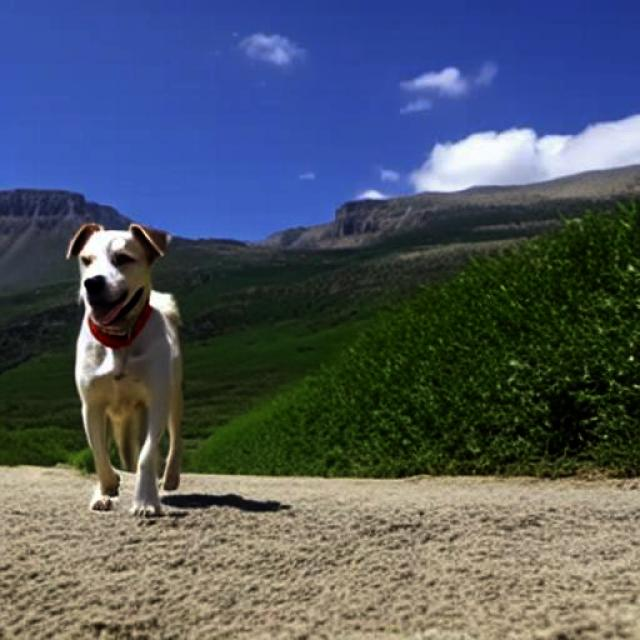Dog: (64, 220, 184, 518)
